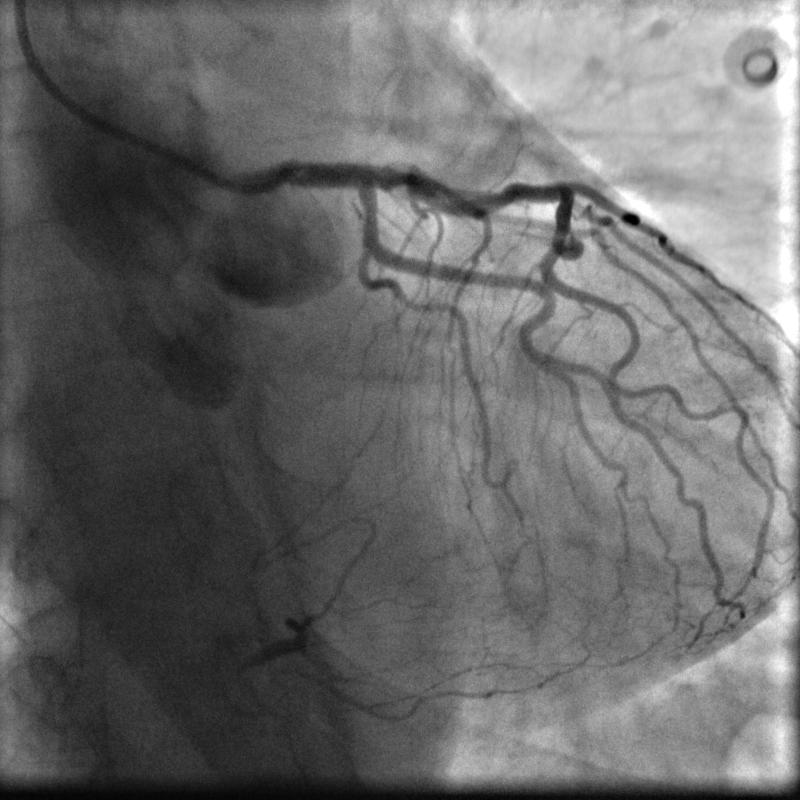Stenosis: (381, 159, 414, 193)
